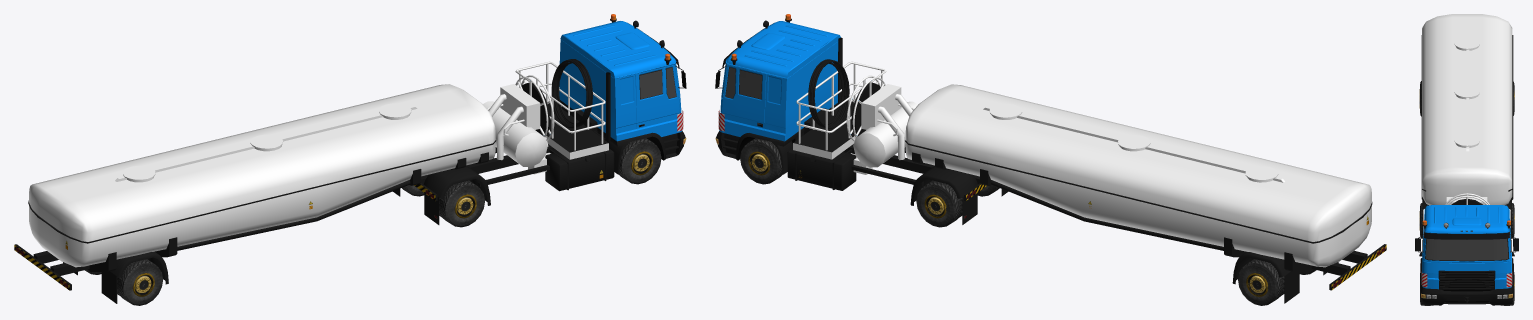
The model's file is tanker_a (2).fbx.
3 renders of one model, left to right at view 1: azimuth 30°, elevation 25°; view 2: azimuth 150°, elevation 25°; view 3: azimuth 270°, elevation 25°, orthographic. The views are drawn at different scales.
Parts seen in each view (by area): view 1: tanker_, Line001, Cylinder002vv002, Cylinder002vv, Cylinder014vf; view 2: tanker_, Line001, Cylinder002vv003, Cylinder002vv001, Cylinder014vf001; view 3: tanker_, Line001, Cylinder002vv, Cylinder002vv001, Cylinder002vv002.
Part boxes in pixels (box(x1,y1,x2,y2)): tanker_: box(14, 84, 496, 303); Line001: box(393, 14, 686, 224); Cylinder002vv002: box(117, 259, 163, 305); Cylinder002vv: box(439, 180, 484, 227); Cylinder014vf: box(619, 138, 661, 184); tanker_: box(905, 84, 1386, 303); Line001: box(715, 14, 1008, 224); Cylinder002vv003: box(1238, 259, 1284, 305); Cylinder002vv001: box(916, 180, 962, 227); Cylinder014vf001: box(740, 138, 782, 184); tanker_: box(1421, 14, 1513, 205); Line001: box(1415, 193, 1518, 305); Cylinder002vv: box(1419, 203, 1422, 238); Cylinder002vv001: box(1511, 203, 1514, 238); Cylinder002vv002: box(1419, 81, 1421, 116).
Bounding box in the file's own units: 1289 × 242 × 239.
